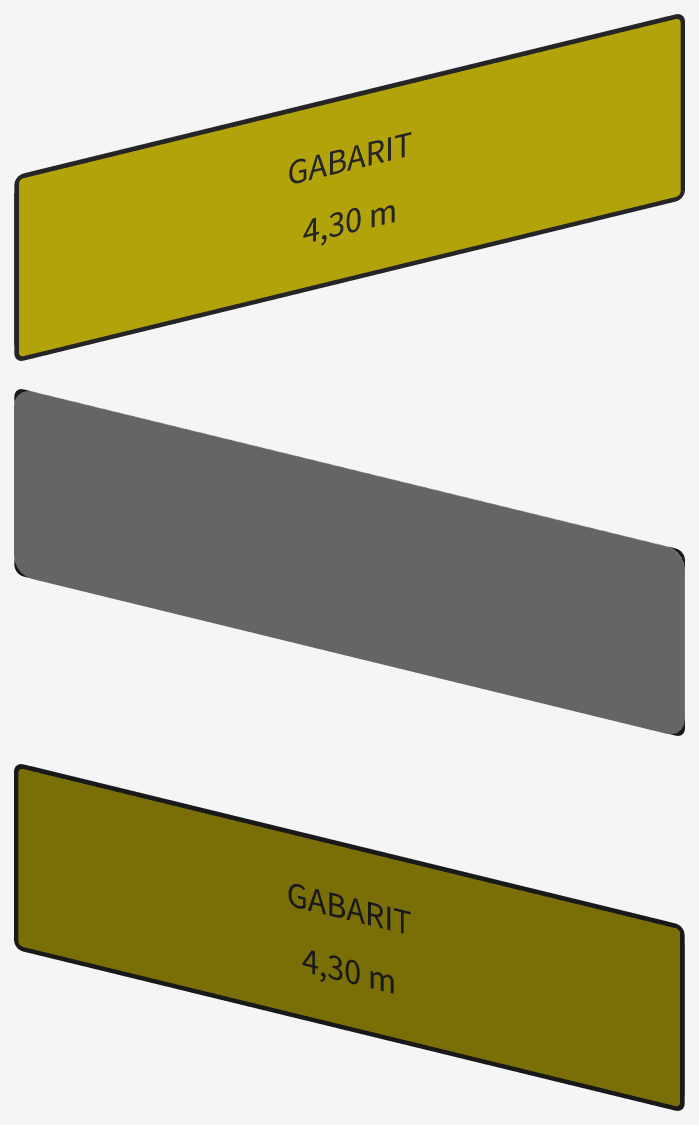
3 views of the same model, one above another, from view 1: azimuth 30°, elevation 25°; view 2: azimuth 150°, elevation 25°; view 3: azimuth 330°, elevation 25° (orthographic).
Parts seen in each view (by area): view 1: G3_fond01, G3_cadre00, G3_txt02, G3_dos, G3_txt03; view 2: G3_dos; view 3: G3_fond01, G3_cadre00, G3_txt02, G3_dos, G3_txt03.
Boxes of the visible parts, left/top/right/bottom form: G3_fond01: left=19, top=19, right=680, bottom=356; G3_cadre00: left=14, top=14, right=684, bottom=360; G3_txt02: left=289, top=132, right=411, bottom=183; G3_dos: left=14, top=16, right=667, bottom=344; G3_txt03: left=303, top=205, right=394, bottom=245; G3_dos: left=14, top=391, right=684, bottom=734; G3_fond01: left=18, top=769, right=679, bottom=1106; G3_cadre00: left=14, top=764, right=684, bottom=1110; G3_txt02: left=288, top=884, right=410, bottom=933; G3_dos: left=31, top=766, right=684, bottom=1094; G3_txt03: left=302, top=950, right=393, bottom=993.
Bounding box in the file's own units: 1.5 × 0.4 × 0.0029.
